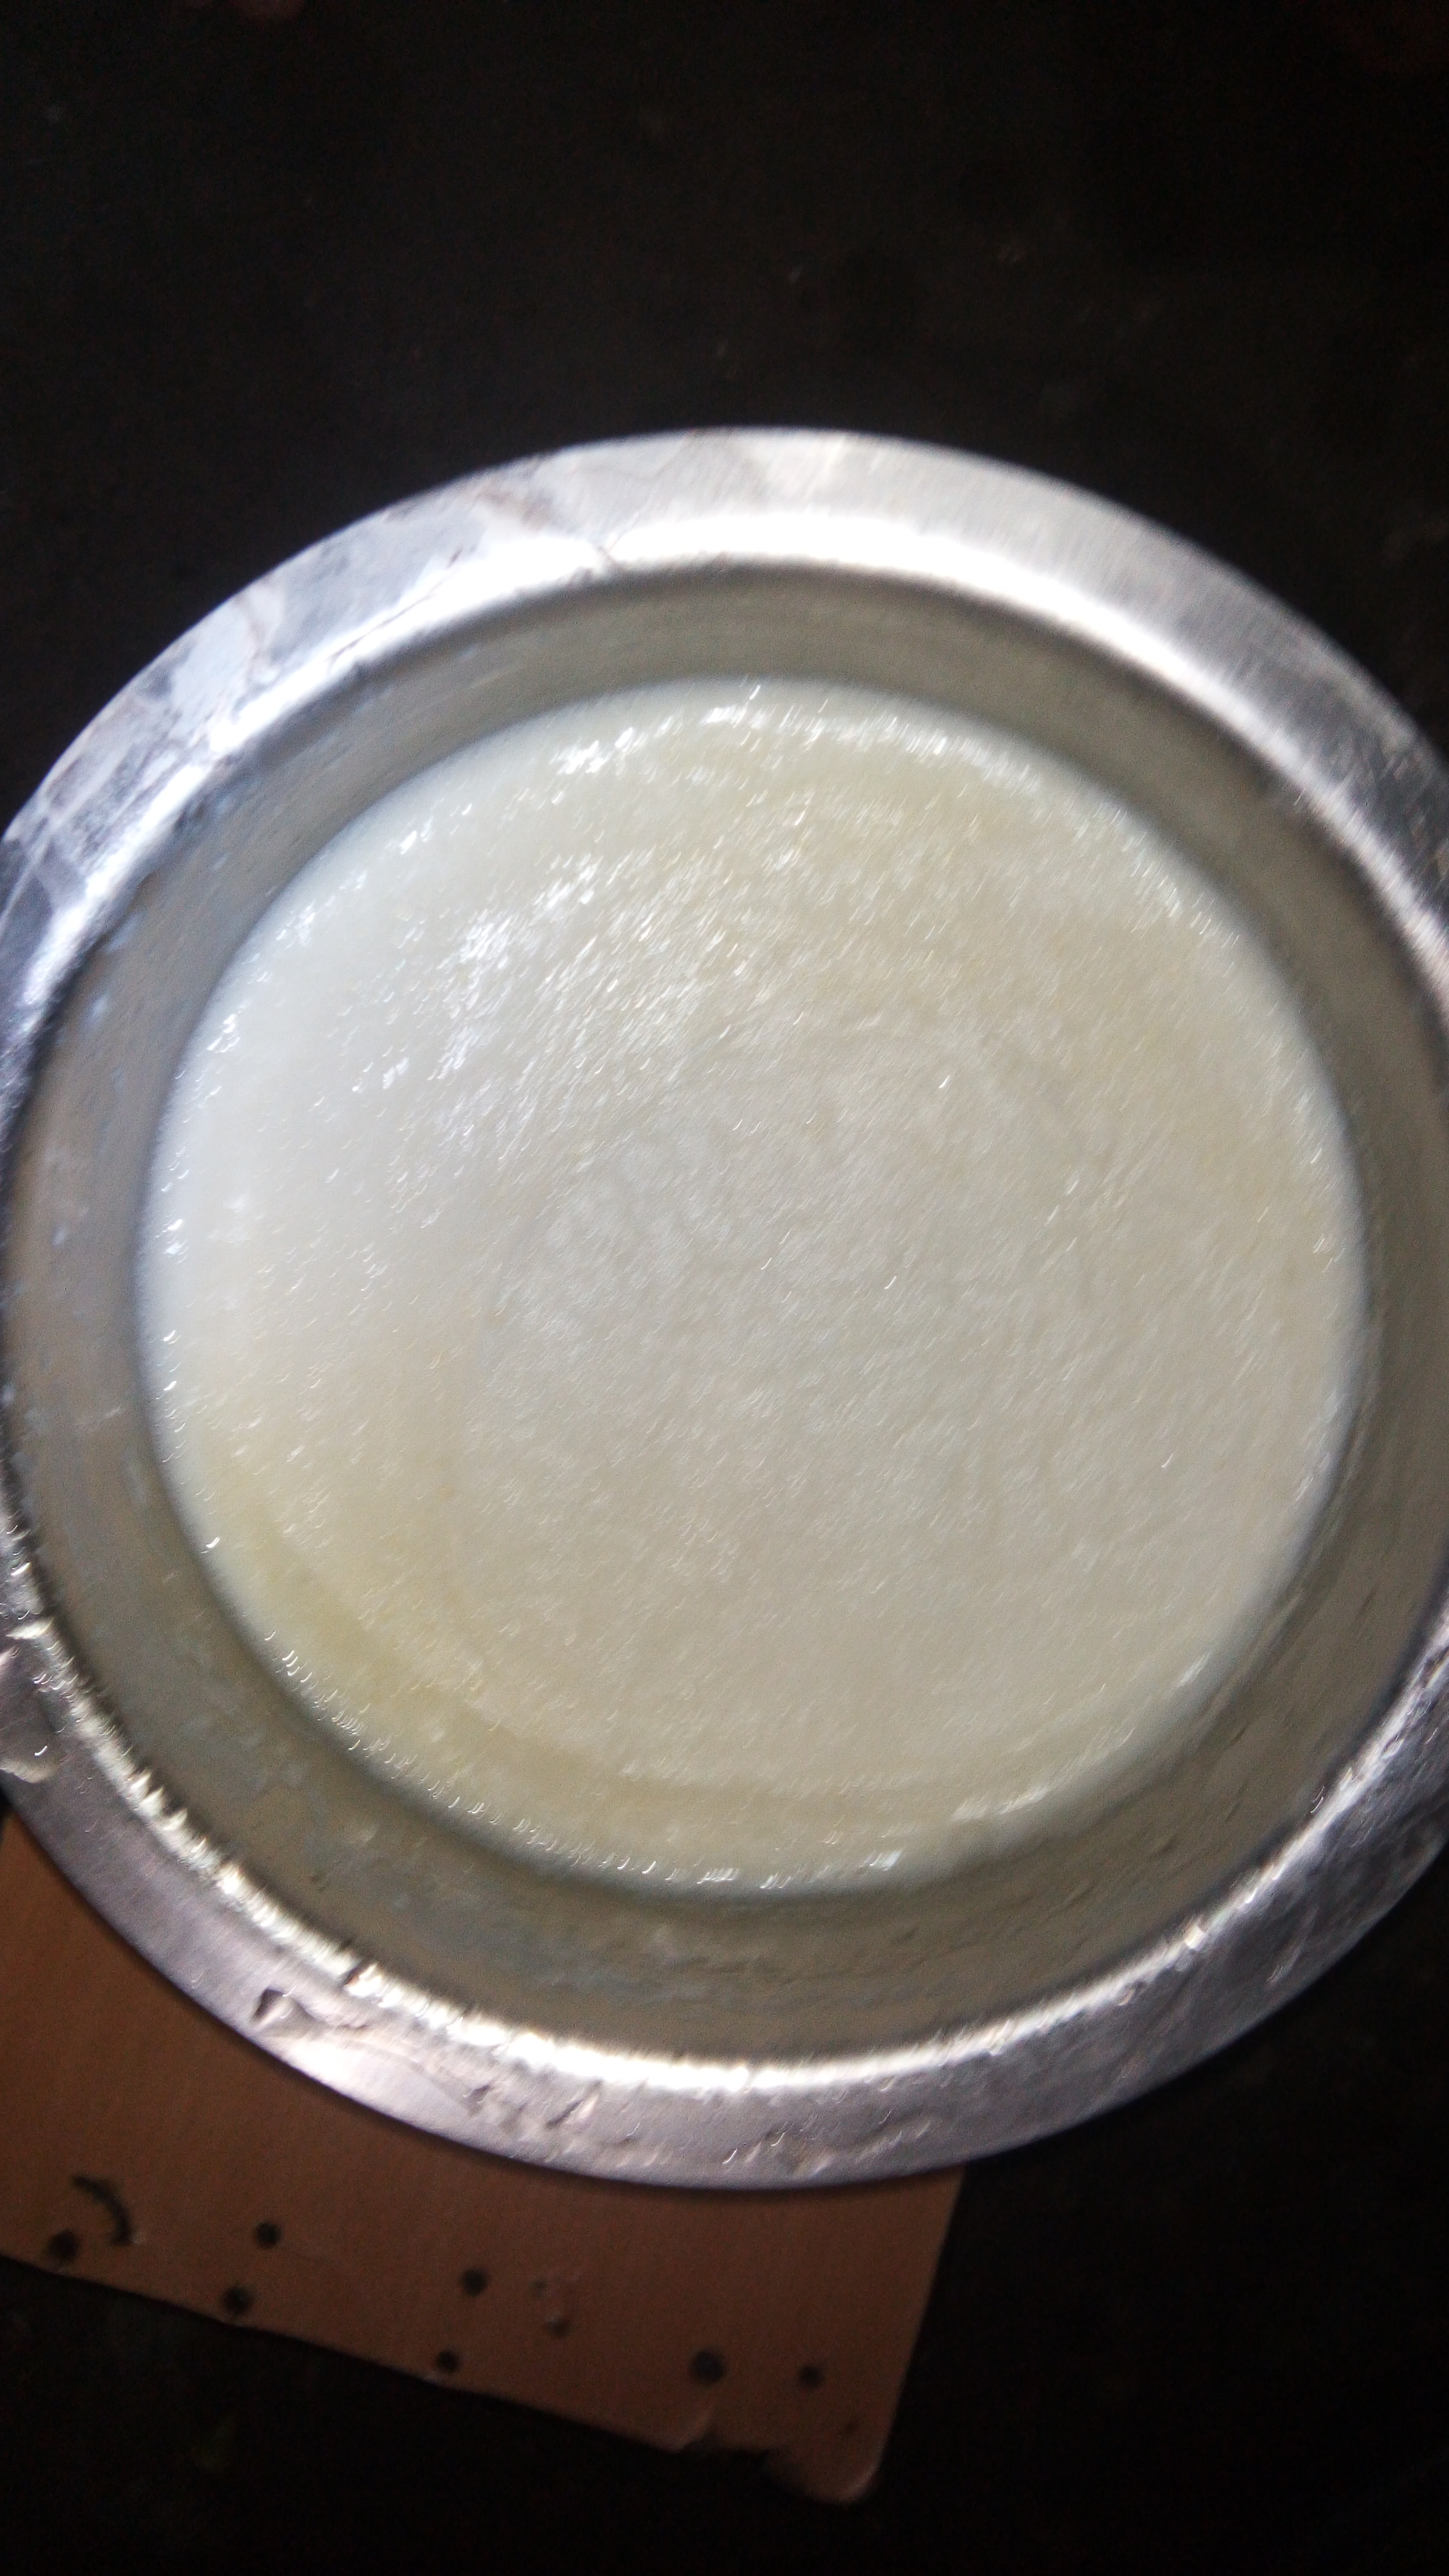food: (117, 651, 1398, 1925)
